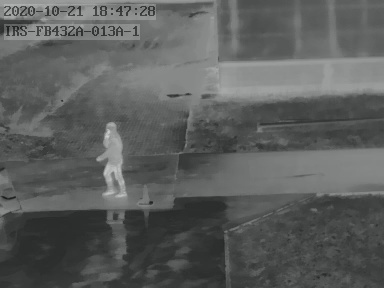person: (97, 122, 131, 195)
